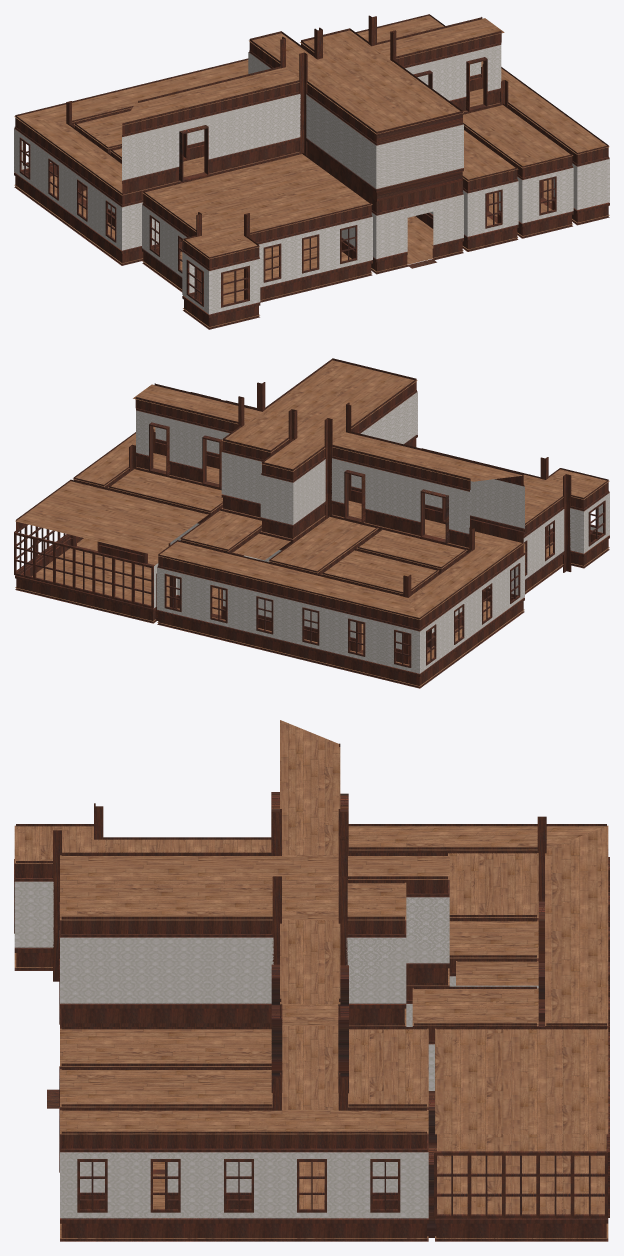
The model's file is Map_Deta.fbx.
The picture shows the model from 3 angles, top to bottom: view 1: azimuth 30°, elevation 25°; view 2: azimuth 150°, elevation 25°; view 3: azimuth 270°, elevation 25°; orthographic projection. The views are drawn at different scales.
Parts seen in each view (by area): view 1: House_1, House_2, top1, top2, Windows, Flooring, Pillare_2, Door_Frames_2, Pillars_1; view 2: House_1, top1, House_2, top2, Windows, Flooring, Door_Frames_2, Pillars_1, Pillare_2, Door_Frames_1; view 3: top1, House_1, House_2, top2, Flooring, Windows, Door_Frames_2, Pillars_1, Pillare_2, Door_Frames_1.
Part boxes in pixels (bbox=[...]): House_1: bbox=[14, 14, 609, 329]; House_2: bbox=[122, 17, 501, 201]; top1: bbox=[14, 15, 609, 259]; top2: bbox=[122, 18, 504, 134]; Windows: bbox=[19, 137, 556, 307]; Flooring: bbox=[14, 175, 609, 327]; Pillare_2: bbox=[280, 15, 396, 153]; Door_Frames_2: bbox=[179, 57, 487, 181]; Pillars_1: bbox=[66, 64, 508, 302]; House_1: bbox=[15, 392, 609, 688]; top1: bbox=[15, 426, 609, 619]; House_2: bbox=[135, 358, 524, 548]; top2: bbox=[133, 360, 524, 481]; Windows: bbox=[14, 500, 605, 667]; Flooring: bbox=[15, 538, 609, 686]; Door_Frames_2: bbox=[149, 422, 449, 543]; Pillars_1: bbox=[129, 429, 571, 664]; Pillare_2: bbox=[238, 382, 351, 515]; Door_Frames_1: bbox=[72, 535, 431, 653]; top1: bbox=[14, 825, 608, 1134]; House_1: bbox=[14, 824, 608, 1241]; House_2: bbox=[60, 743, 449, 1074]; top2: bbox=[60, 720, 449, 1004]; Flooring: bbox=[14, 953, 608, 1238]; Windows: bbox=[14, 857, 609, 1218]; Door_Frames_2: bbox=[271, 792, 348, 1093]; Pillars_1: bbox=[53, 803, 546, 1110]; Pillare_2: bbox=[272, 809, 347, 965]; Door_Frames_1: bbox=[153, 901, 544, 1237].
Bounding box in the file's own units: 36.25 × 14.56 × 29.45.
Materials: 4 (4 with a texture image).
